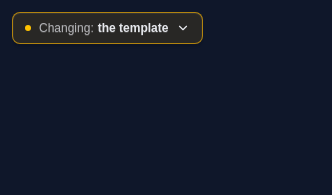
Test: picking the other mode switches to it and closes the menu; picking the current one doesn't
What coordinates should you click on to do the following:
click the button "Changing: the template"
I would click on:
 (108, 28)
Its box is [12,12,203,44].
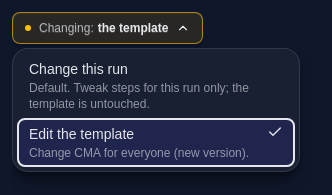
What coordinates should you click on to do the following:
click the menu item "Edit the template Change CMA for everyone (new version)."
I would click on:
 (82, 134)
Its box is [17,118,295,167].
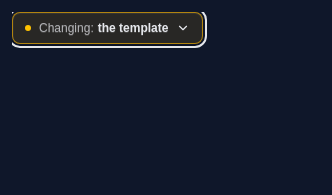
What coordinates should you click on to do the following:
click the button "Changing: the template"
I would click on:
 (108, 28)
Its box is [12,12,203,44].
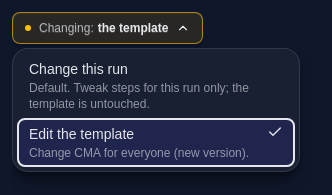
What coordinates should you click on to do the following:
click the menu item "Change this run"
I would click on:
 (156, 86)
Its box is [17,53,295,118].
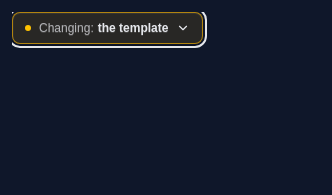
Expected: the menu is gone
